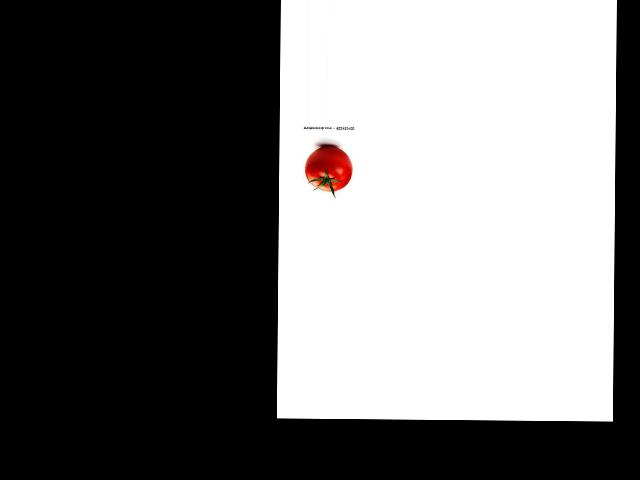tomato: (305, 145, 352, 191)
